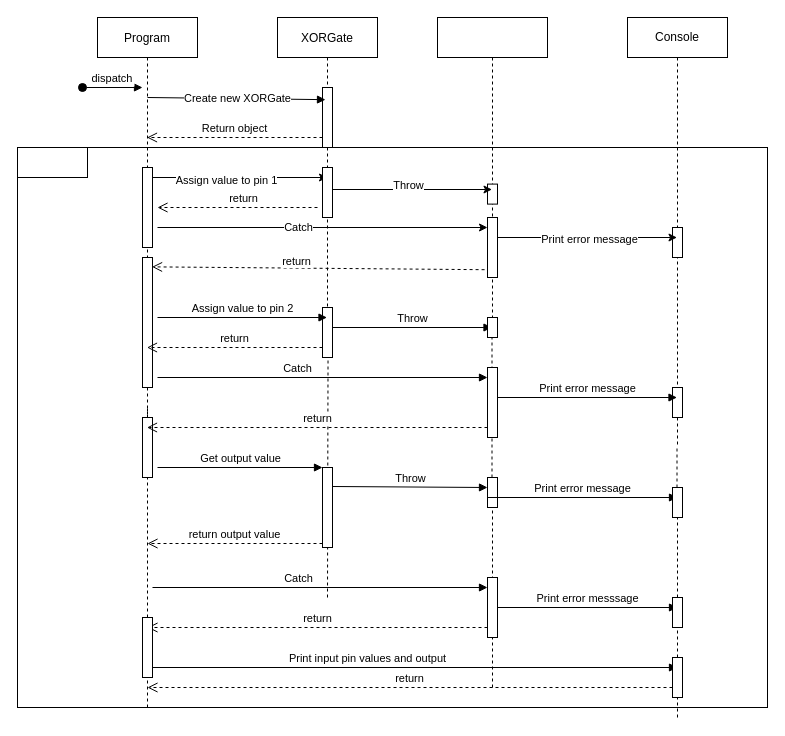
Image size: 785x736. Some labels were removed from this diagram. Each missing label, with the box of its shape:
InvalidPinException: (436, 16, 548, 318)
LOOP: (16, 146, 88, 178)
